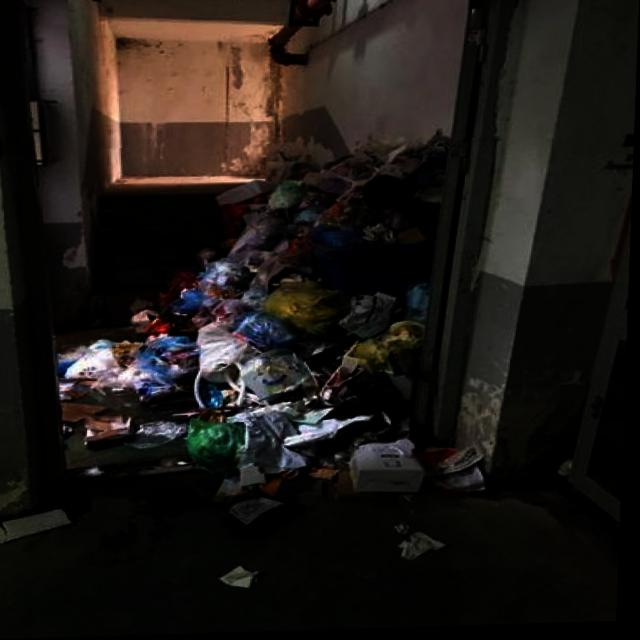garbage: (56, 141, 501, 595)
